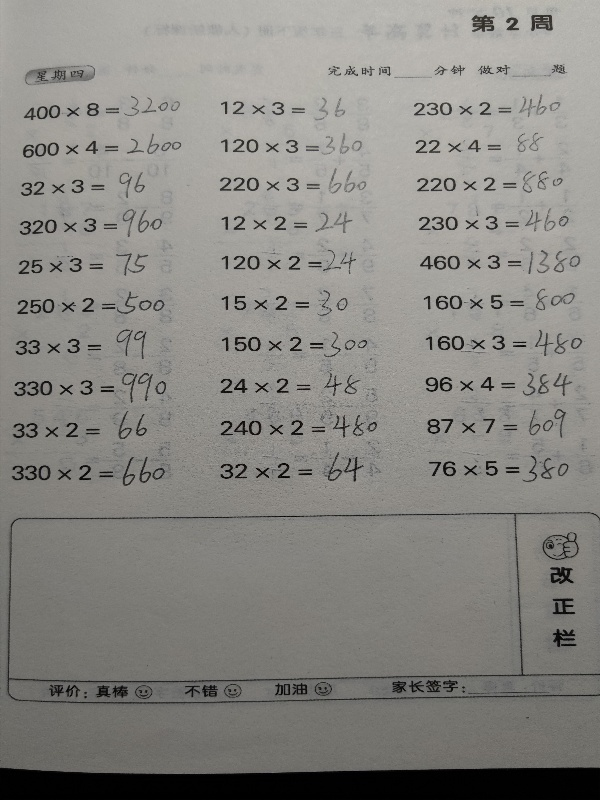equation: (8, 455, 168, 492), (9, 370, 175, 404), (216, 447, 367, 484), (423, 326, 586, 360), (17, 205, 166, 241), (427, 406, 576, 442), (417, 247, 585, 278), (426, 453, 573, 488), (216, 411, 385, 440), (221, 328, 374, 360), (424, 369, 576, 401), (420, 285, 579, 315), (410, 89, 566, 119), (14, 288, 169, 318), (10, 410, 155, 442), (219, 206, 363, 238), (413, 169, 566, 199), (415, 207, 578, 235), (217, 243, 359, 275), (219, 287, 352, 321), (217, 166, 367, 196), (217, 92, 357, 124), (216, 368, 370, 397), (12, 327, 156, 358), (413, 128, 553, 159), (17, 168, 155, 198), (19, 133, 189, 157), (216, 131, 366, 157), (20, 95, 172, 120), (15, 249, 153, 276)
